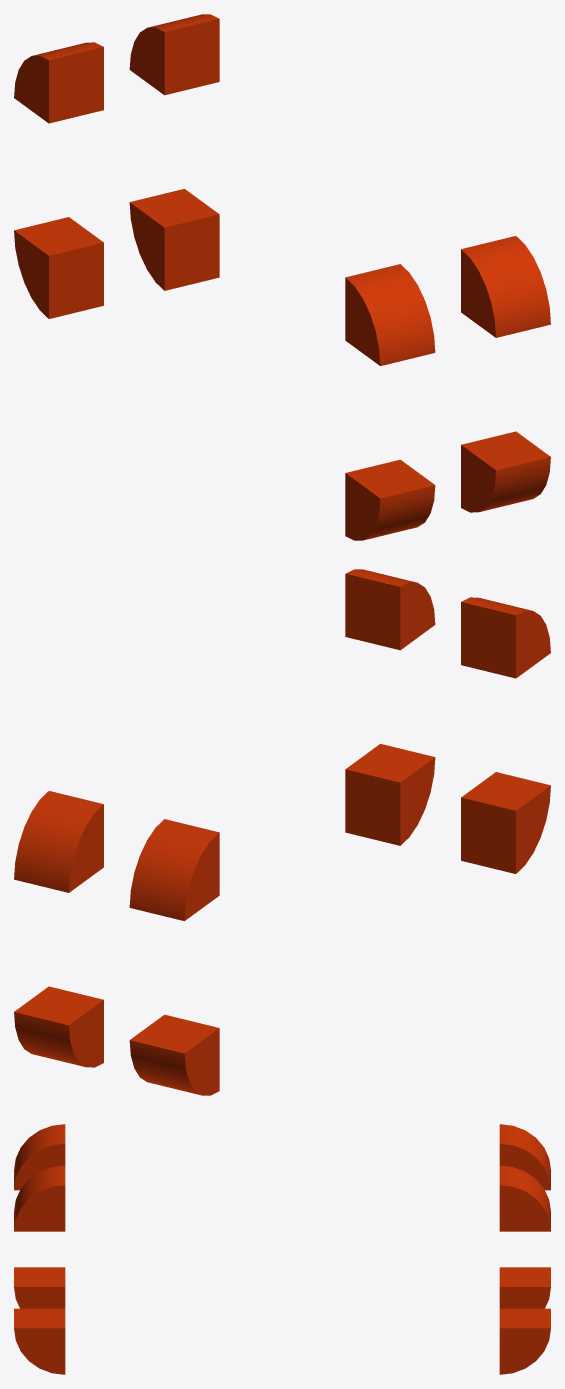
Rendered from FlashMCoilR.gltf.
The picture shows the model from 3 angles, top to bottom: view 1: azimuth 30°, elevation 25°; view 2: azimuth 150°, elevation 25°; view 3: azimuth 270°, elevation 25°; orthographic projection. The views are drawn at different scales.
Parts seen in each view (by area): view 1: logicFlashMCoilR_pv0x221c4e0, logicFlashMCoilR_pv0x221c780, logicFlashMCoilR_pv0x221c588, logicFlashMCoilR_pv0x221c748, logicFlashMCoilR_pv0x221c518, logicFlashMCoilR_pv0x221c7b8, logicFlashMCoilR_pv0x221c550, logicFlashMCoilR_pv0x221c710; view 2: logicFlashMCoilR_pv0x221c550, logicFlashMCoilR_pv0x221c710, logicFlashMCoilR_pv0x221c518, logicFlashMCoilR_pv0x221c7b8, logicFlashMCoilR_pv0x221c588, logicFlashMCoilR_pv0x221c748, logicFlashMCoilR_pv0x221c4e0, logicFlashMCoilR_pv0x221c780; view 3: logicFlashMCoilR_pv0x221c710, logicFlashMCoilR_pv0x221c780, logicFlashMCoilR_pv0x221c748, logicFlashMCoilR_pv0x221c7b8, logicFlashMCoilR_pv0x221c4e0, logicFlashMCoilR_pv0x221c550, logicFlashMCoilR_pv0x221c518, logicFlashMCoilR_pv0x221c588.
Part boxes in pixels (bbox=[...]): logicFlashMCoilR_pv0x221c4e0: bbox=[345, 264, 435, 365]; logicFlashMCoilR_pv0x221c780: bbox=[129, 189, 219, 290]; logicFlashMCoilR_pv0x221c588: bbox=[14, 217, 103, 318]; logicFlashMCoilR_pv0x221c748: bbox=[461, 236, 550, 337]; logicFlashMCoilR_pv0x221c518: bbox=[345, 459, 435, 540]; logicFlashMCoilR_pv0x221c7b8: bbox=[129, 14, 219, 95]; logicFlashMCoilR_pv0x221c550: bbox=[14, 42, 103, 123]; logicFlashMCoilR_pv0x221c710: bbox=[461, 431, 550, 512]; logicFlashMCoilR_pv0x221c550: bbox=[129, 819, 219, 920]; logicFlashMCoilR_pv0x221c710: bbox=[345, 744, 435, 845]; logicFlashMCoilR_pv0x221c518: bbox=[461, 772, 550, 873]; logicFlashMCoilR_pv0x221c7b8: bbox=[14, 791, 103, 892]; logicFlashMCoilR_pv0x221c588: bbox=[129, 1014, 219, 1095]; logicFlashMCoilR_pv0x221c748: bbox=[345, 569, 435, 650]; logicFlashMCoilR_pv0x221c4e0: bbox=[461, 597, 550, 678]; logicFlashMCoilR_pv0x221c780: bbox=[14, 986, 103, 1067]; logicFlashMCoilR_pv0x221c710: bbox=[14, 1308, 65, 1374]; logicFlashMCoilR_pv0x221c780: bbox=[499, 1308, 550, 1374]; logicFlashMCoilR_pv0x221c748: bbox=[14, 1165, 65, 1231]; logicFlashMCoilR_pv0x221c7b8: bbox=[499, 1165, 550, 1231]; logicFlashMCoilR_pv0x221c4e0: bbox=[14, 1124, 65, 1190]; logicFlashMCoilR_pv0x221c550: bbox=[499, 1124, 550, 1190]; logicFlashMCoilR_pv0x221c518: bbox=[14, 1267, 65, 1308]; logicFlashMCoilR_pv0x221c588: bbox=[499, 1267, 550, 1308].
Bounding box in the file's own units: 31.03 × 45 × 115.
